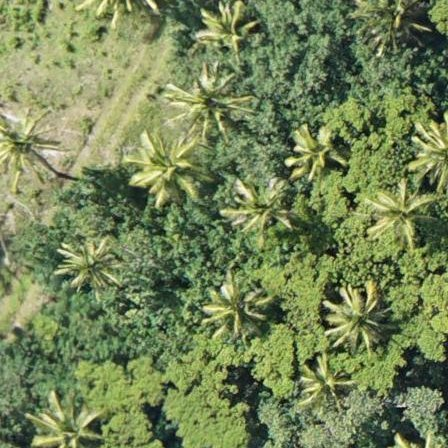palm_tree: (195, 268, 267, 345), (321, 284, 386, 352), (127, 134, 191, 202), (61, 232, 124, 299), (171, 71, 241, 130), (225, 177, 289, 241), (370, 183, 429, 249), (199, 1, 260, 64), (31, 400, 99, 448), (286, 124, 344, 179), (296, 355, 353, 407), (1, 116, 46, 170)
